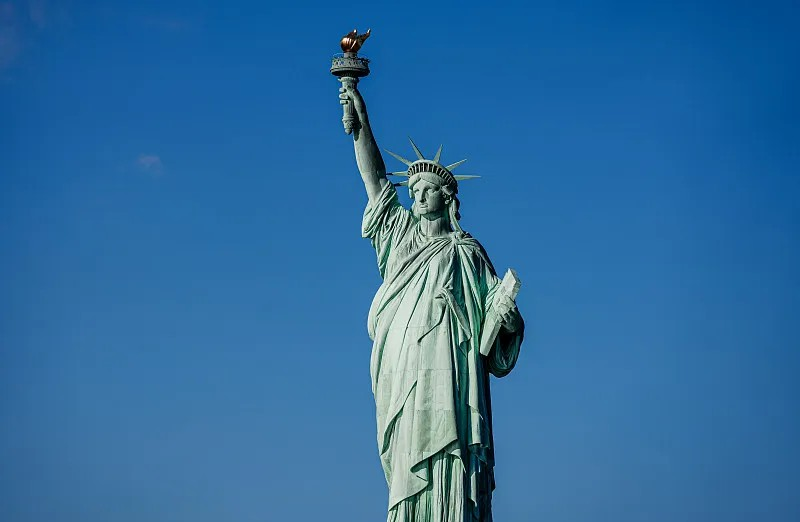SL: (330, 27, 526, 522)
